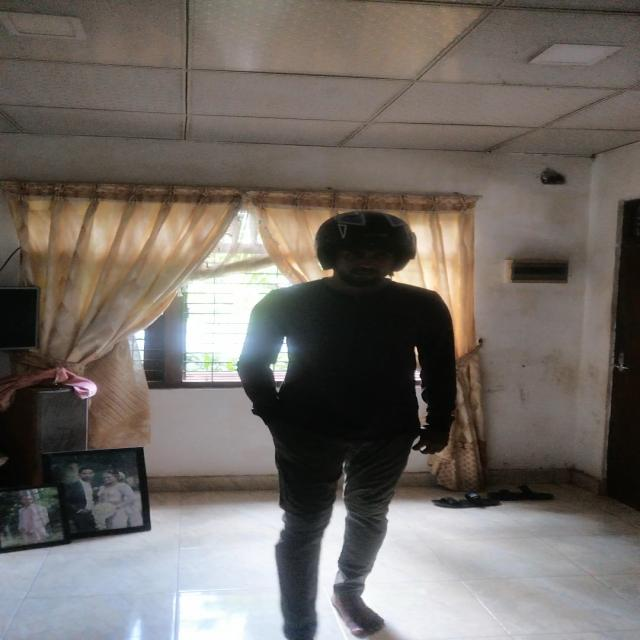Helmet_Wearer: (295, 204, 419, 294)
Person: (243, 198, 455, 640)
